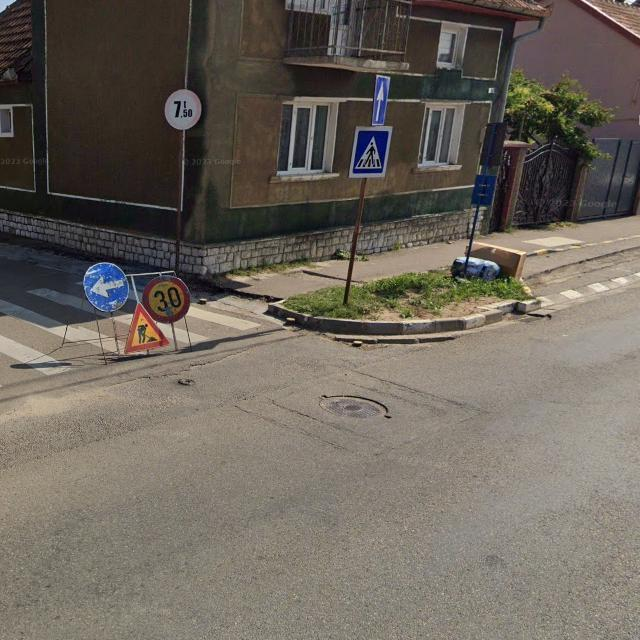forb_speed_over_30: (142, 276, 190, 325)
info_crosswalk: (349, 125, 394, 177)
